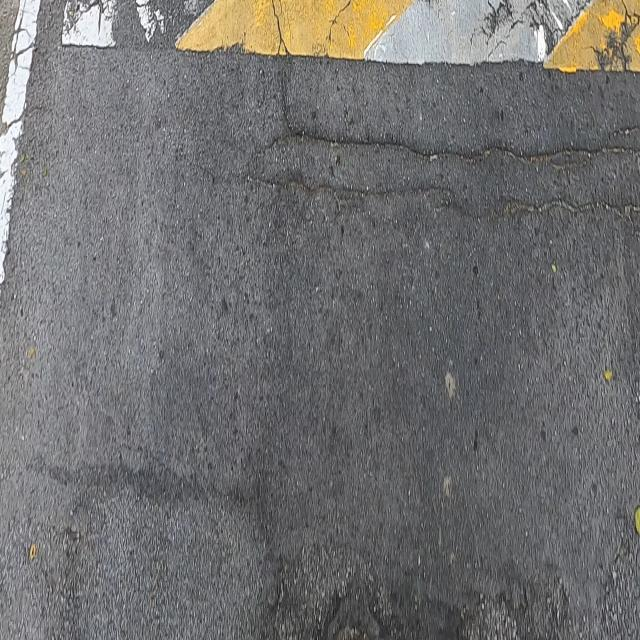Retak-Melintang: (248, 167, 640, 238), (255, 125, 639, 176)
